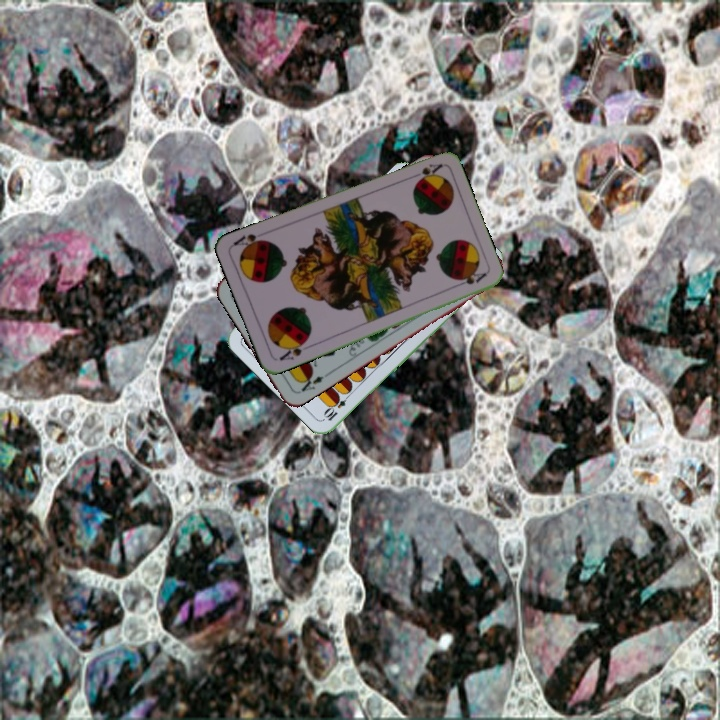E10: (320, 388, 353, 423)
EA: (294, 369, 331, 395)
SA: (275, 336, 313, 363), (406, 159, 445, 183)
